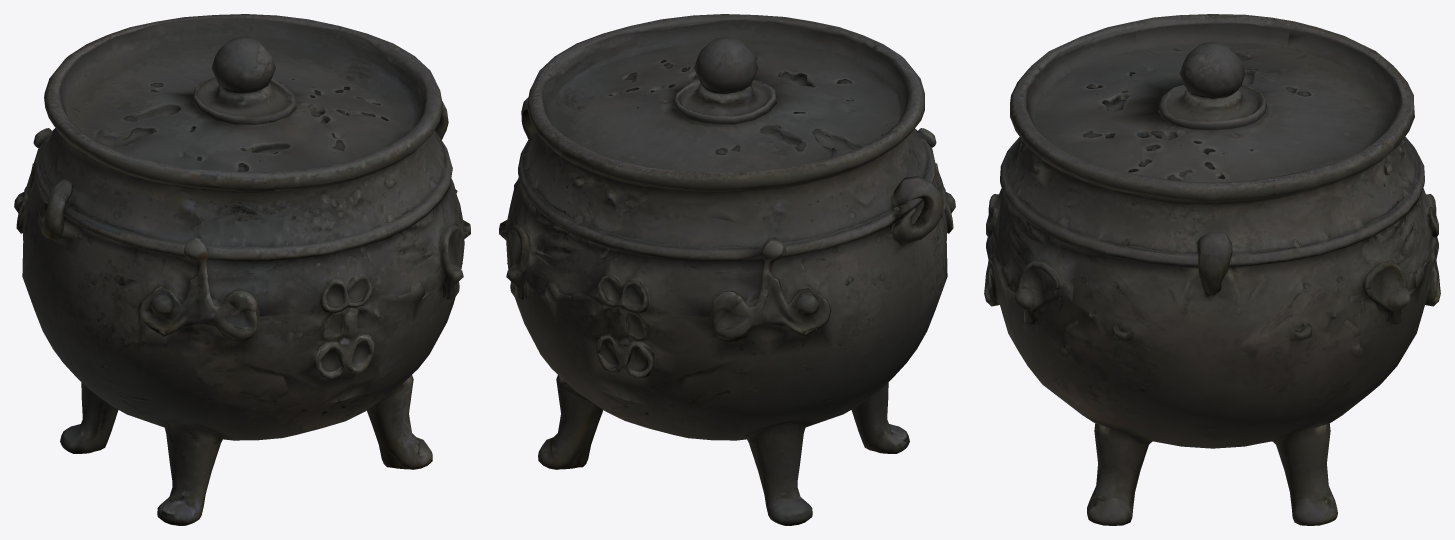
The model's file is cauldron.glb.
3 renders of one model, left to right at view 1: azimuth 30°, elevation 25°; view 2: azimuth 150°, elevation 25°; view 3: azimuth 270°, elevation 25°, orthographic.
Visible parts, largest first — view 1: tripo_node_3d104c00-d66b-4367-8fc0-3f39cc72e3b3; view 2: tripo_node_3d104c00-d66b-4367-8fc0-3f39cc72e3b3; view 3: tripo_node_3d104c00-d66b-4367-8fc0-3f39cc72e3b3.
Boxes of the visible parts, x1,y1,x2,y2 form: tripo_node_3d104c00-d66b-4367-8fc0-3f39cc72e3b3: (14, 14, 470, 525); tripo_node_3d104c00-d66b-4367-8fc0-3f39cc72e3b3: (499, 14, 955, 525); tripo_node_3d104c00-d66b-4367-8fc0-3f39cc72e3b3: (984, 14, 1440, 525).
Bounding box in the file's own units: 0.9764 × 0.9572 × 0.942.
1 material, 1 textured.
